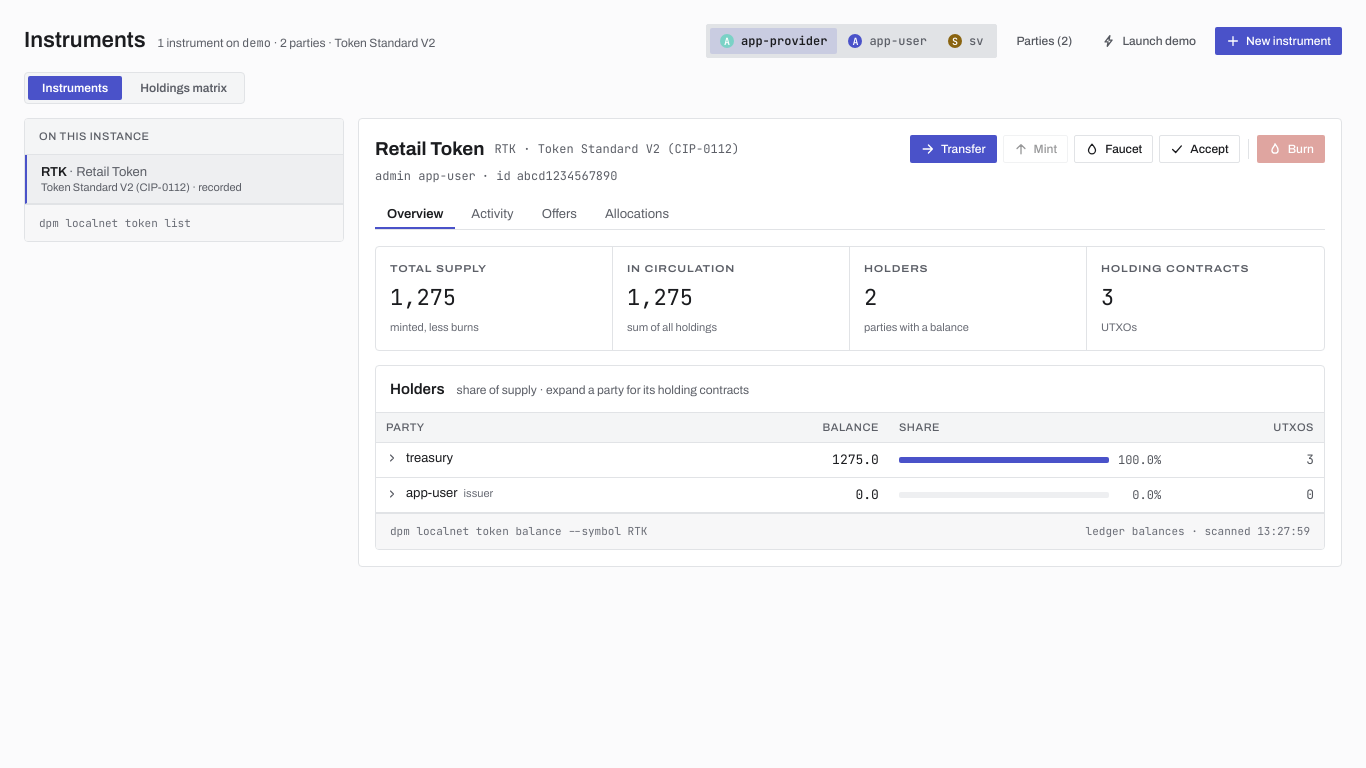
Scenario: TokensScreen › launches a demo token in one click
This screenshot has width=1366, height=768.
Click the button "Launch demo" at (1149, 41), box [1091,27,1207,55]
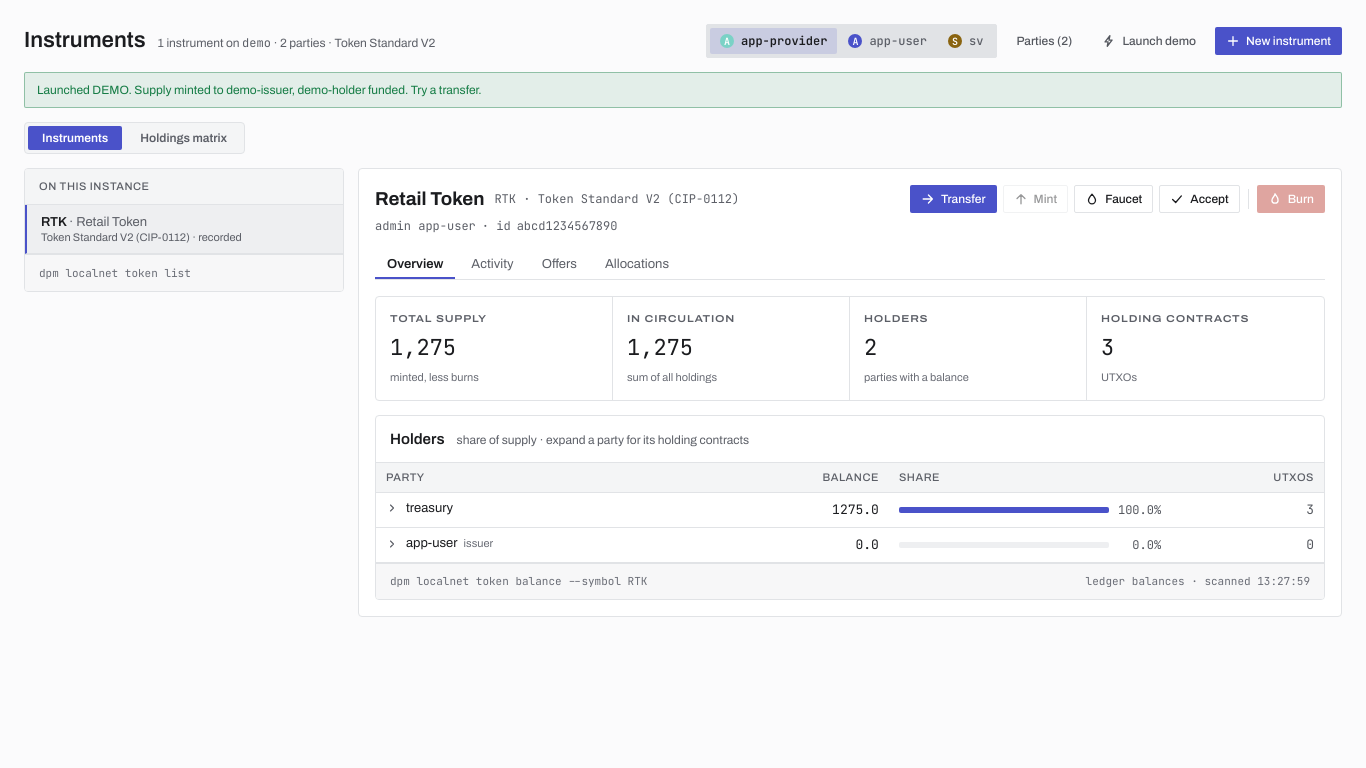
Check: the text "Launched DEMO" is shown, box [37,83,482,97]
